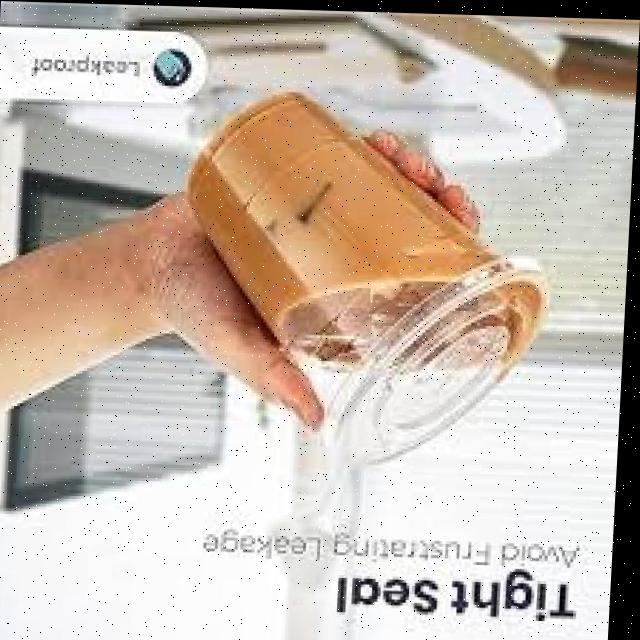cup: (153, 75, 555, 500)
